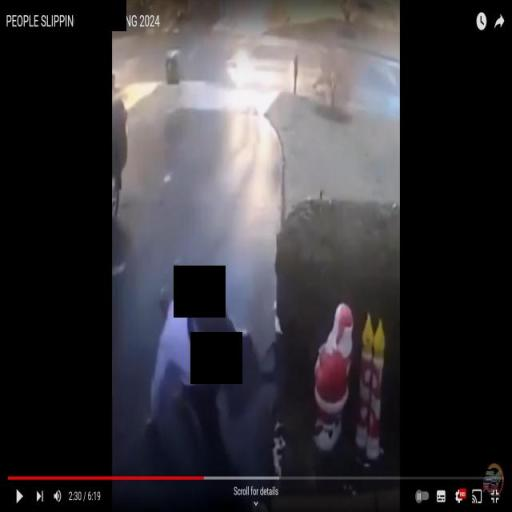Fall: (140, 279, 238, 494)
